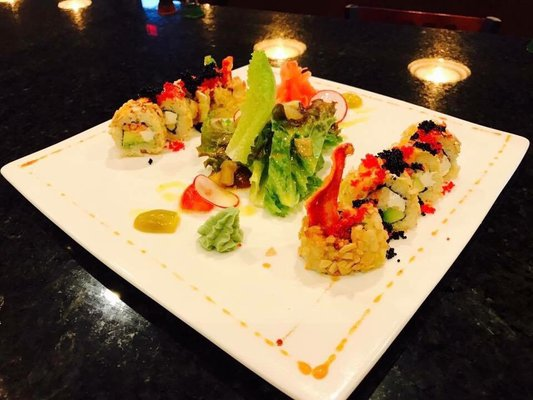curry: (3, 11, 533, 400)
sushi: (107, 97, 168, 154)
